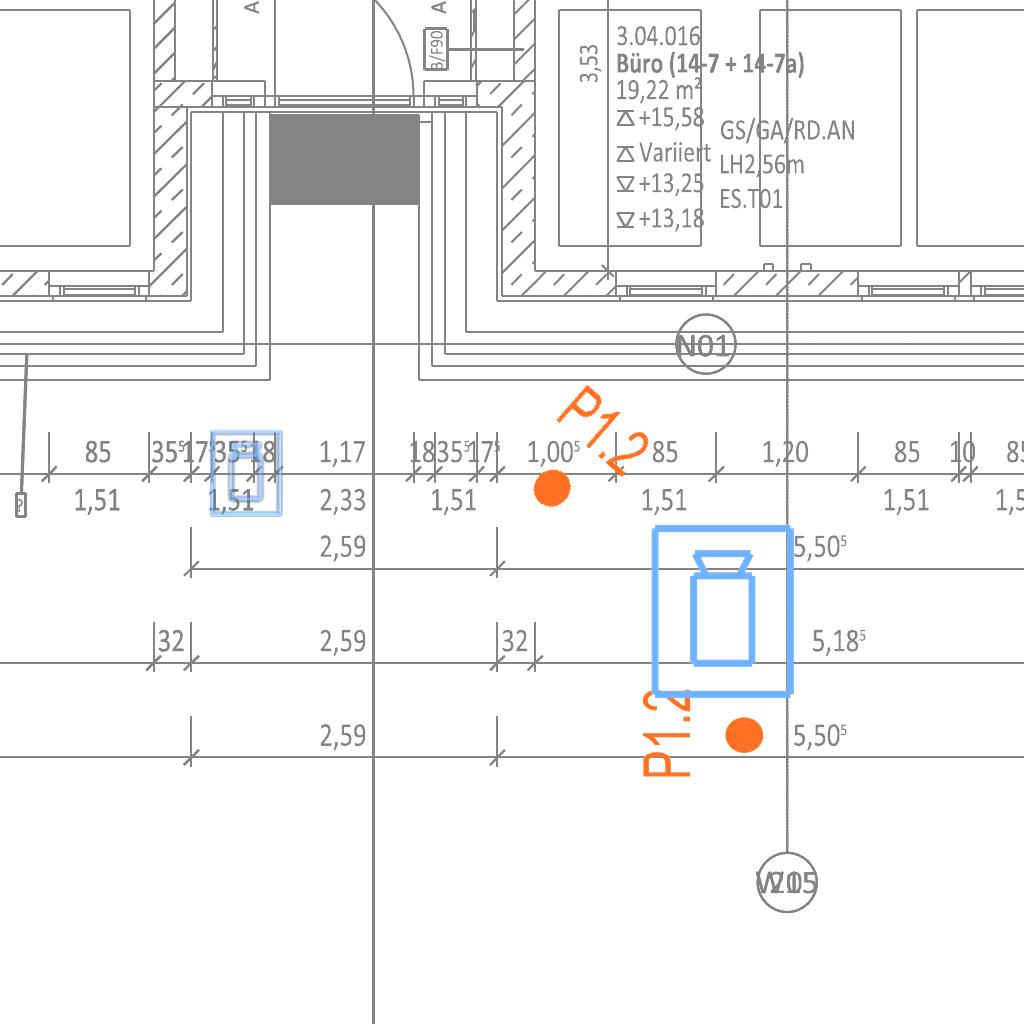Downlight_LED_Einbauleuchten_Flur: (503, 379, 658, 537), (639, 687, 767, 780)
KFO_Kamera_mit_Festobjektiv: (647, 521, 801, 703), (208, 428, 285, 519)
